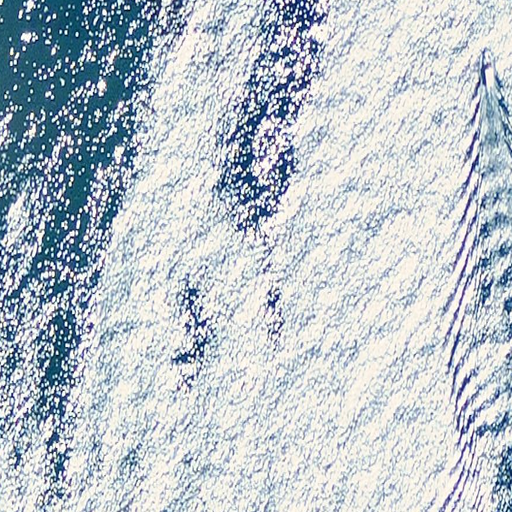ship: (481, 47, 498, 95)
